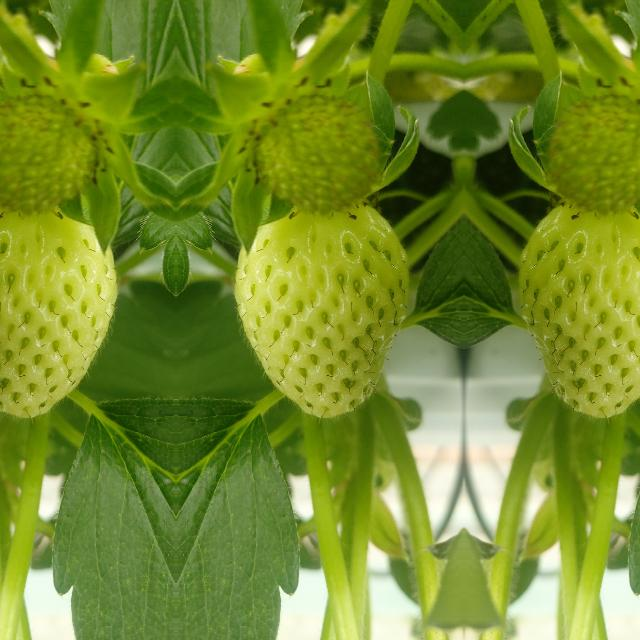Health_25: (232, 202, 408, 418), (518, 202, 640, 417), (0, 202, 117, 417)
